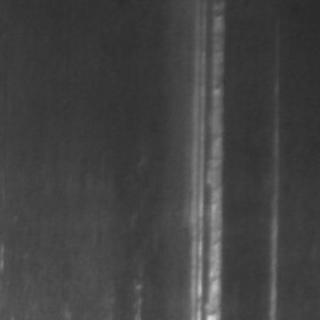scratches: (184, 0, 226, 318), (262, 91, 282, 316)
